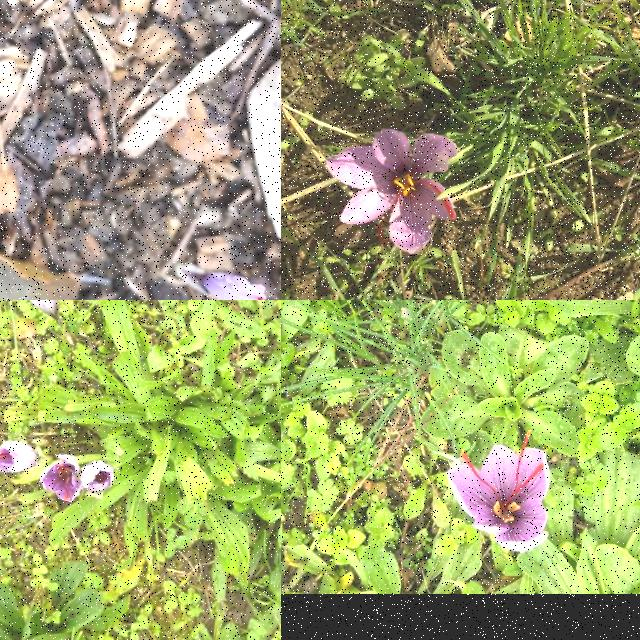flower: (328, 129, 458, 253), (446, 431, 552, 554), (40, 455, 116, 503), (40, 456, 80, 502), (203, 273, 268, 300), (0, 441, 42, 473), (80, 462, 116, 492), (16, 300, 59, 321)
